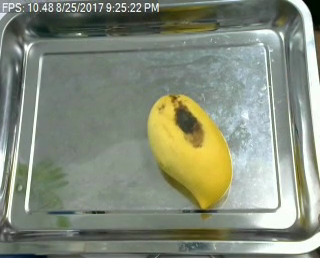Mango: (144, 94, 236, 209)
